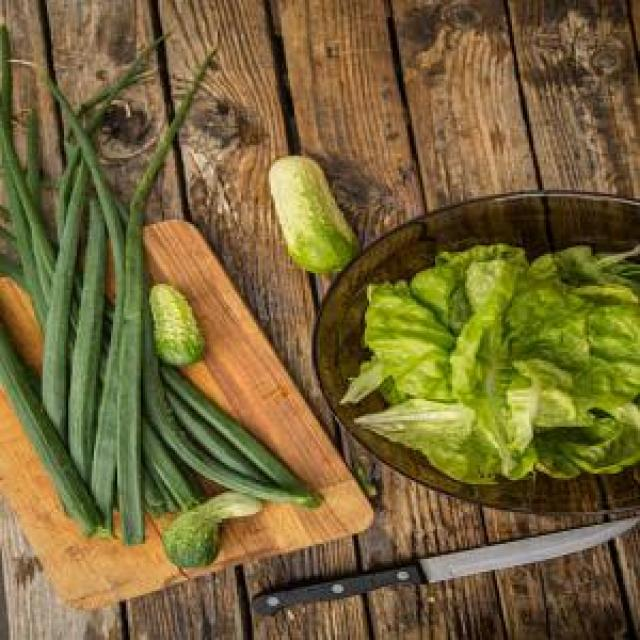knife: (247, 518, 639, 634)
